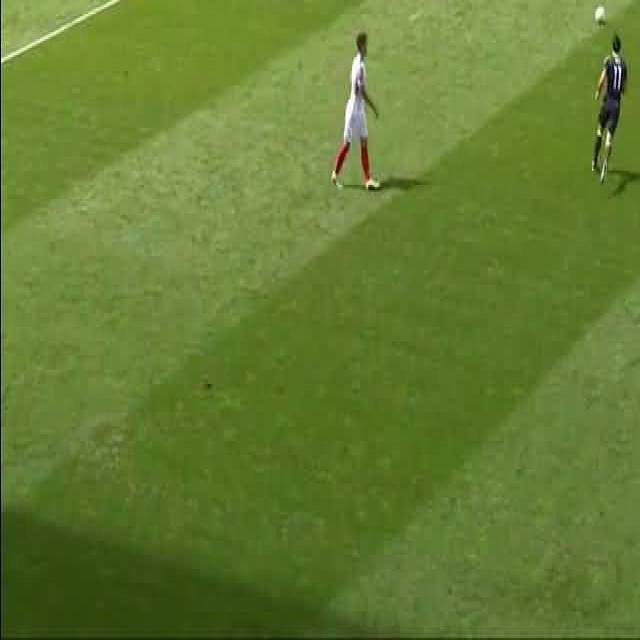ball: (595, 5, 607, 25)
player-white: (330, 32, 382, 191), (592, 36, 628, 184)
